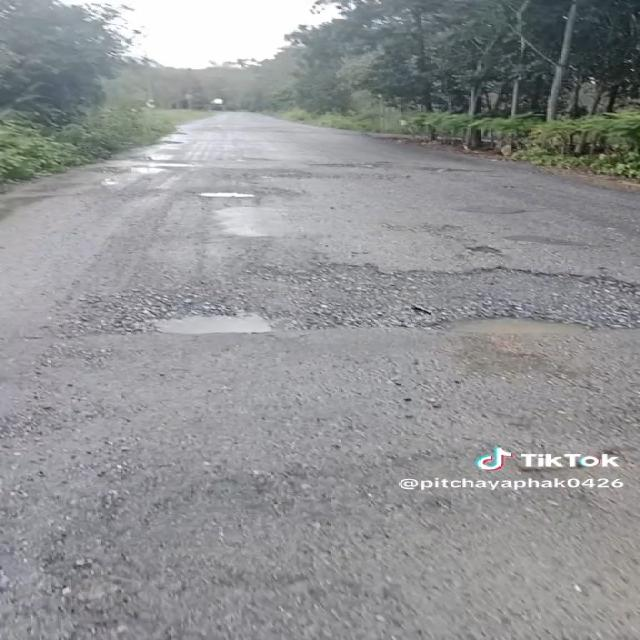Poth-hole: (99, 251, 348, 399)
